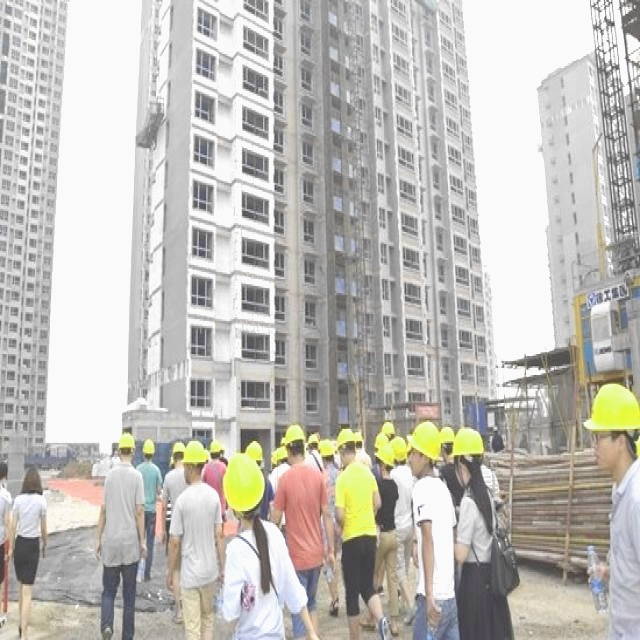Con_Casco: (581, 384, 640, 465), (224, 452, 266, 517), (283, 422, 305, 460)
